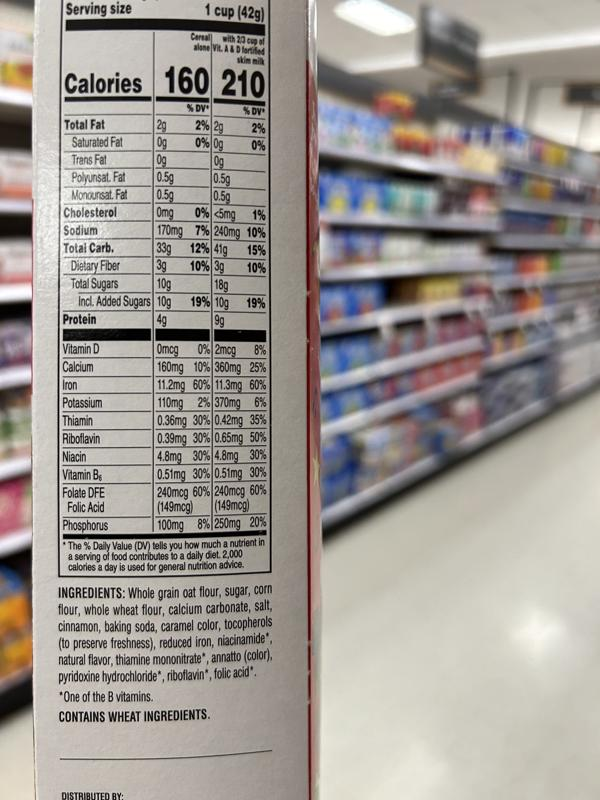ingredients: (55, 583, 275, 687)
